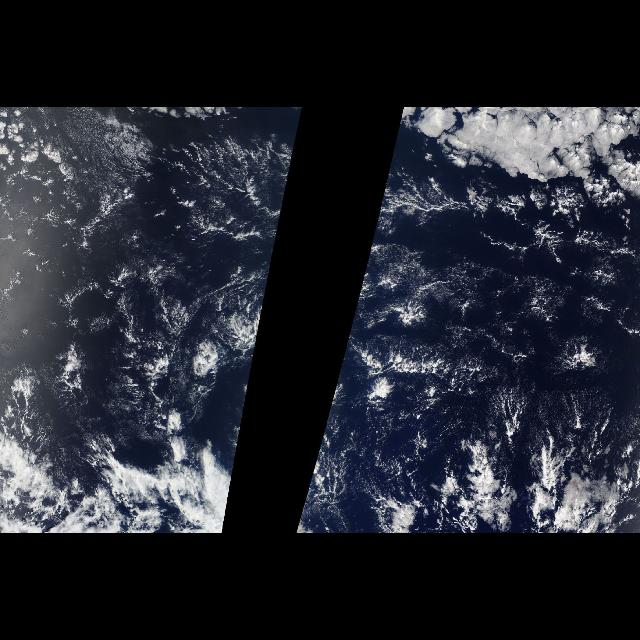Fish: (371, 133, 593, 249), (166, 133, 300, 249)
Sugar: (374, 256, 618, 342)
